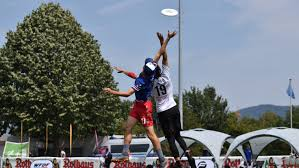disc: (160, 7, 180, 18)
